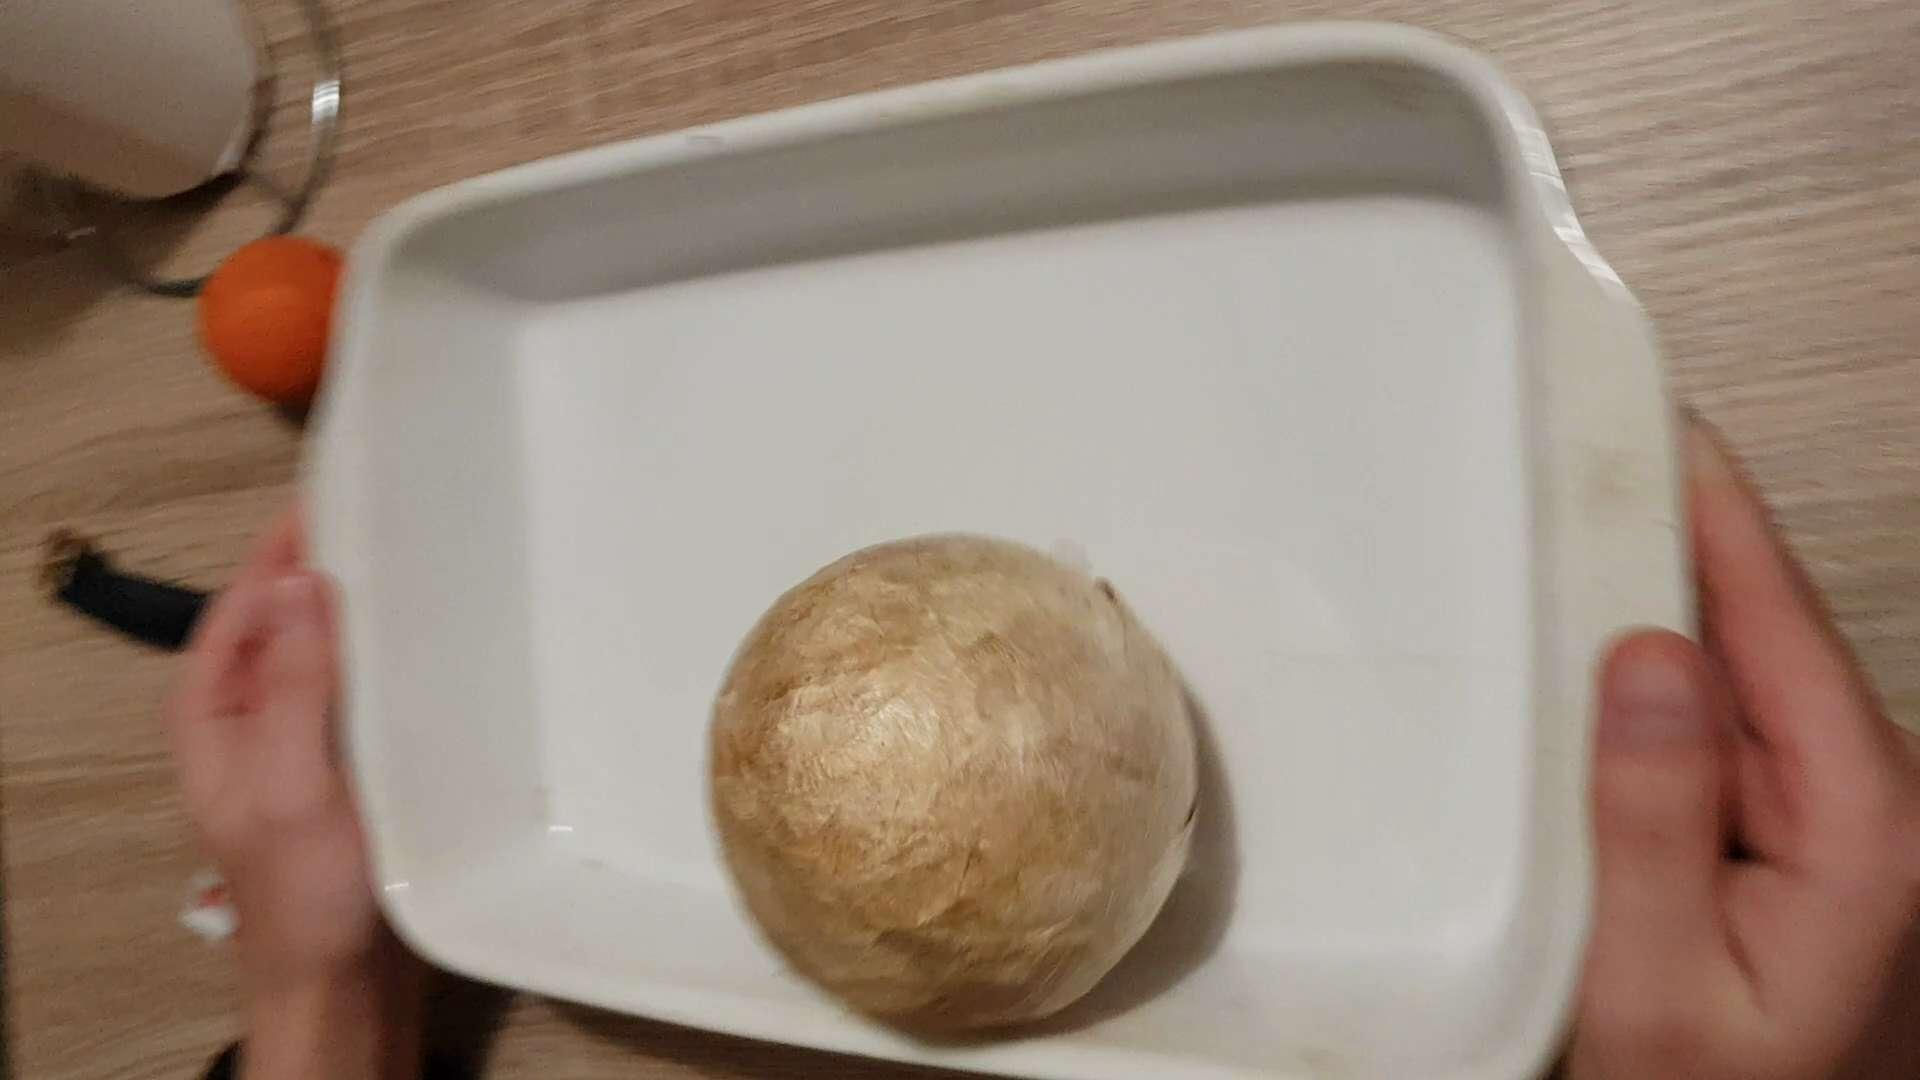sphere: (705, 520, 1211, 1043)
